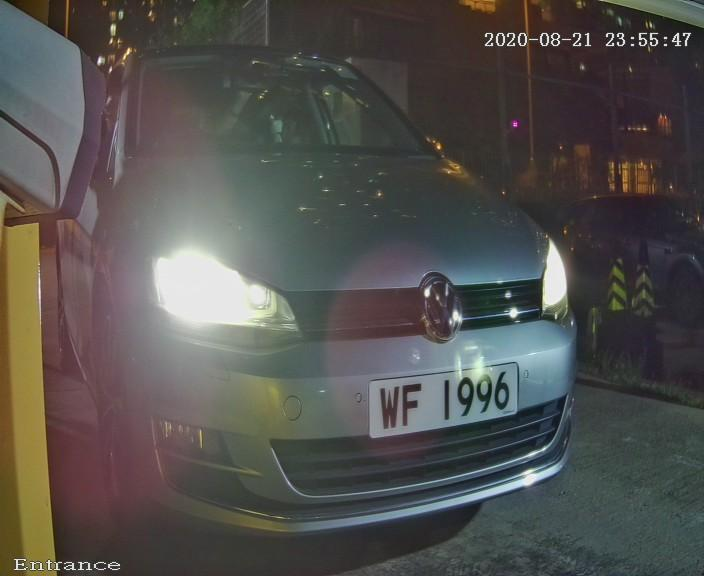Car: (10, 8, 648, 574)
License Plate: (359, 353, 529, 443)
